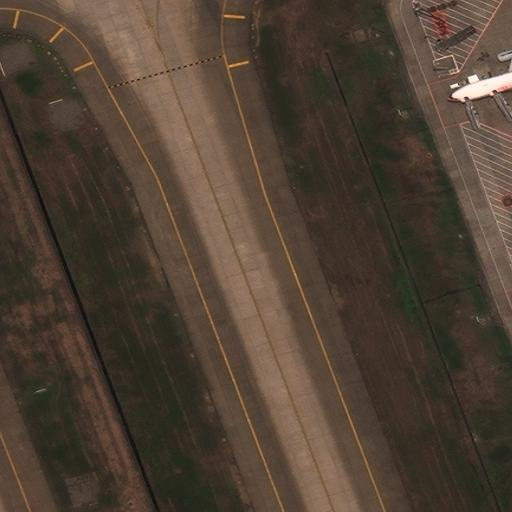Large Civil Transport: (446, 9, 512, 120)
